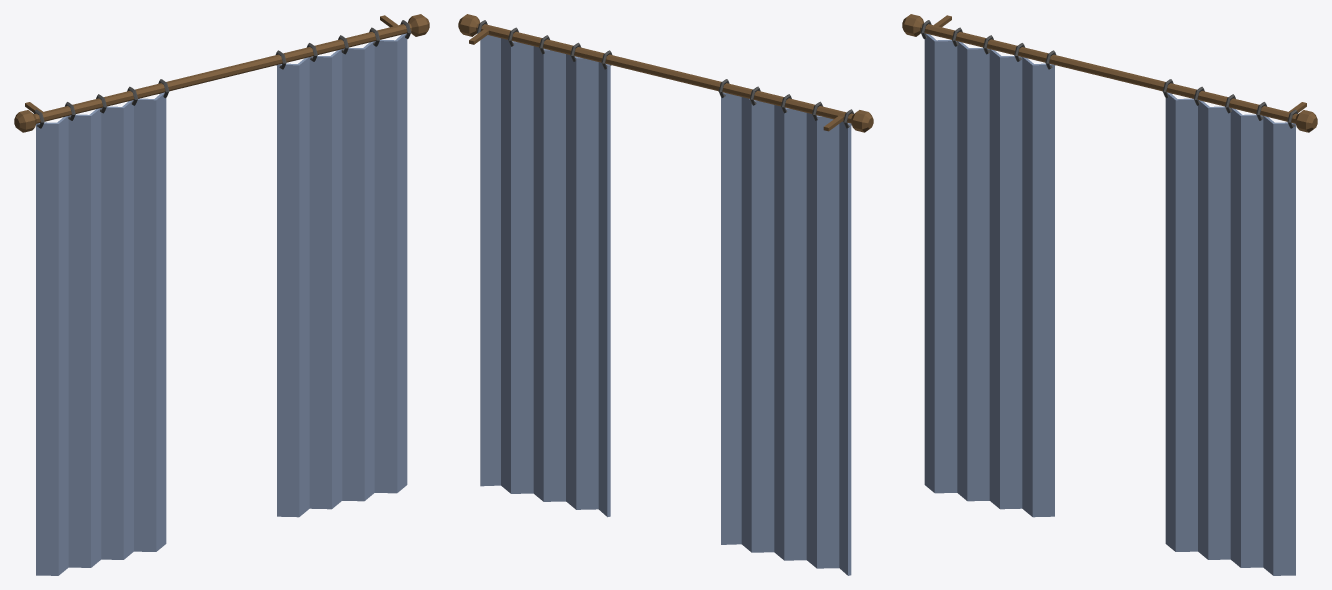
File: Curtains1_C1.fbx
The picture shows the model from 3 angles, left to right: view 1: azimuth 30°, elevation 25°; view 2: azimuth 150°, elevation 25°; view 3: azimuth 330°, elevation 25°; orthographic projection.
Parts seen in each view (by area): view 1: Curtains1_C1; view 2: Curtains1_C1; view 3: Curtains1_C1.
Part boxes in pixels (x1,y1,x2,y2): Curtains1_C1: [14, 14, 429, 575]; Curtains1_C1: [458, 14, 873, 575]; Curtains1_C1: [902, 14, 1317, 575].
Size of the model in its own units: 138 by 150 by 13.37.
